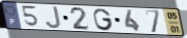2: (69, 6, 90, 31)
4: (124, 9, 142, 33)
5: (20, 5, 41, 29)
7: (144, 8, 161, 34)
G: (92, 8, 115, 32)
J: (45, 5, 63, 30)
